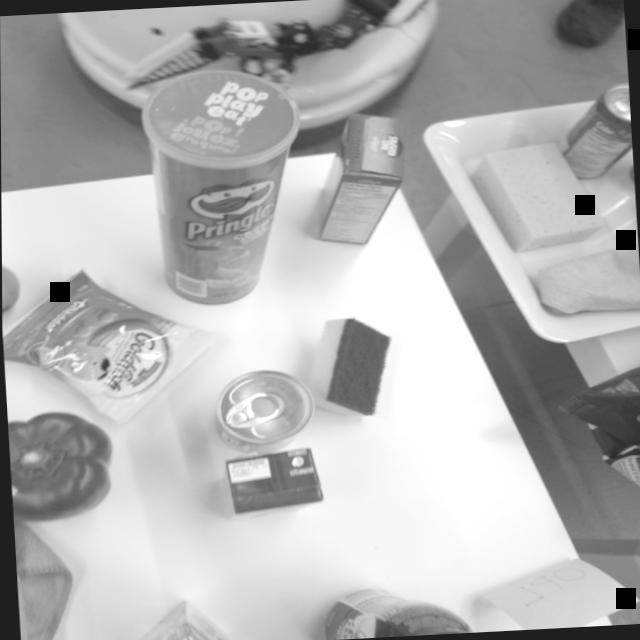cereal: (312, 110, 417, 248)
crackers: (2, 280, 200, 418)
grape_juice: (219, 446, 334, 516)
pringles: (131, 65, 297, 309)
sausages: (208, 367, 315, 450)
scrubby: (301, 312, 399, 424)
